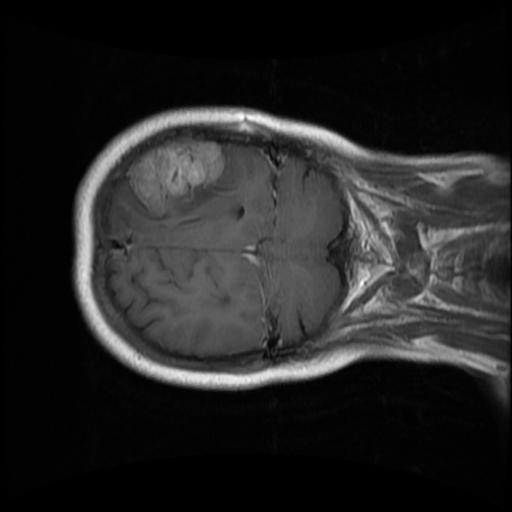meningioma: (127, 138, 224, 220)
